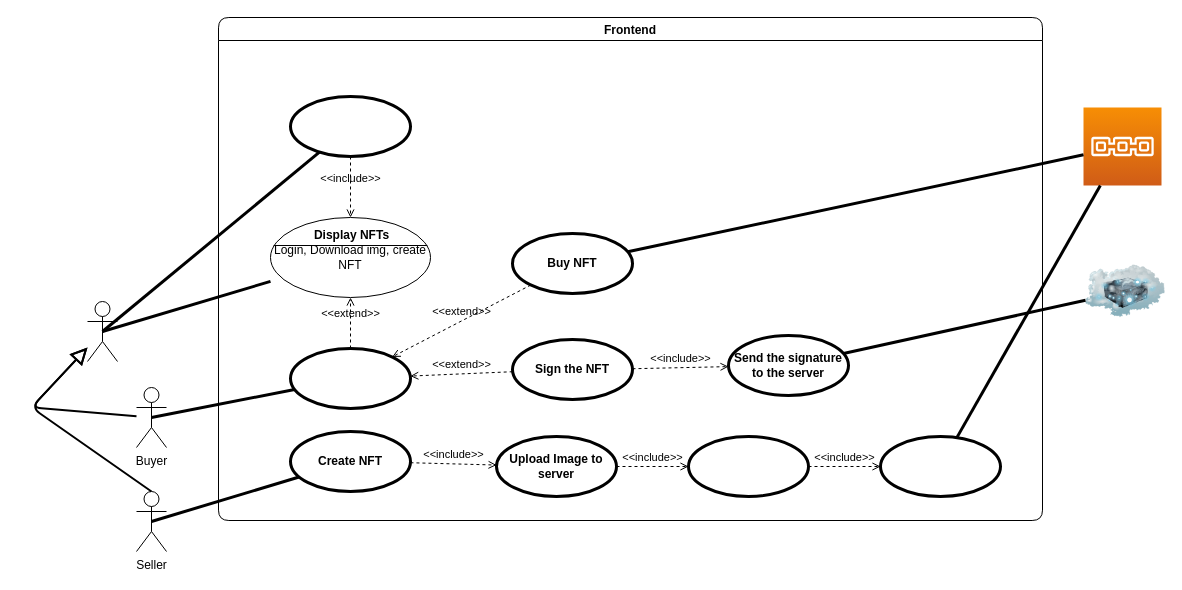
The diagram is 1182 pixels wide and 590 high, and some of its shapes have lost their labels. Each missing label, with the centre of its shape:
"Create NFT on blockchain" belongs at (940,466).
"Download High-res image" belongs at (350,378).
"Login Using Metamask" belongs at (350,126).
"upload metadata on ipfs" belongs at (748,466).
"User" belongs at (102,331).
